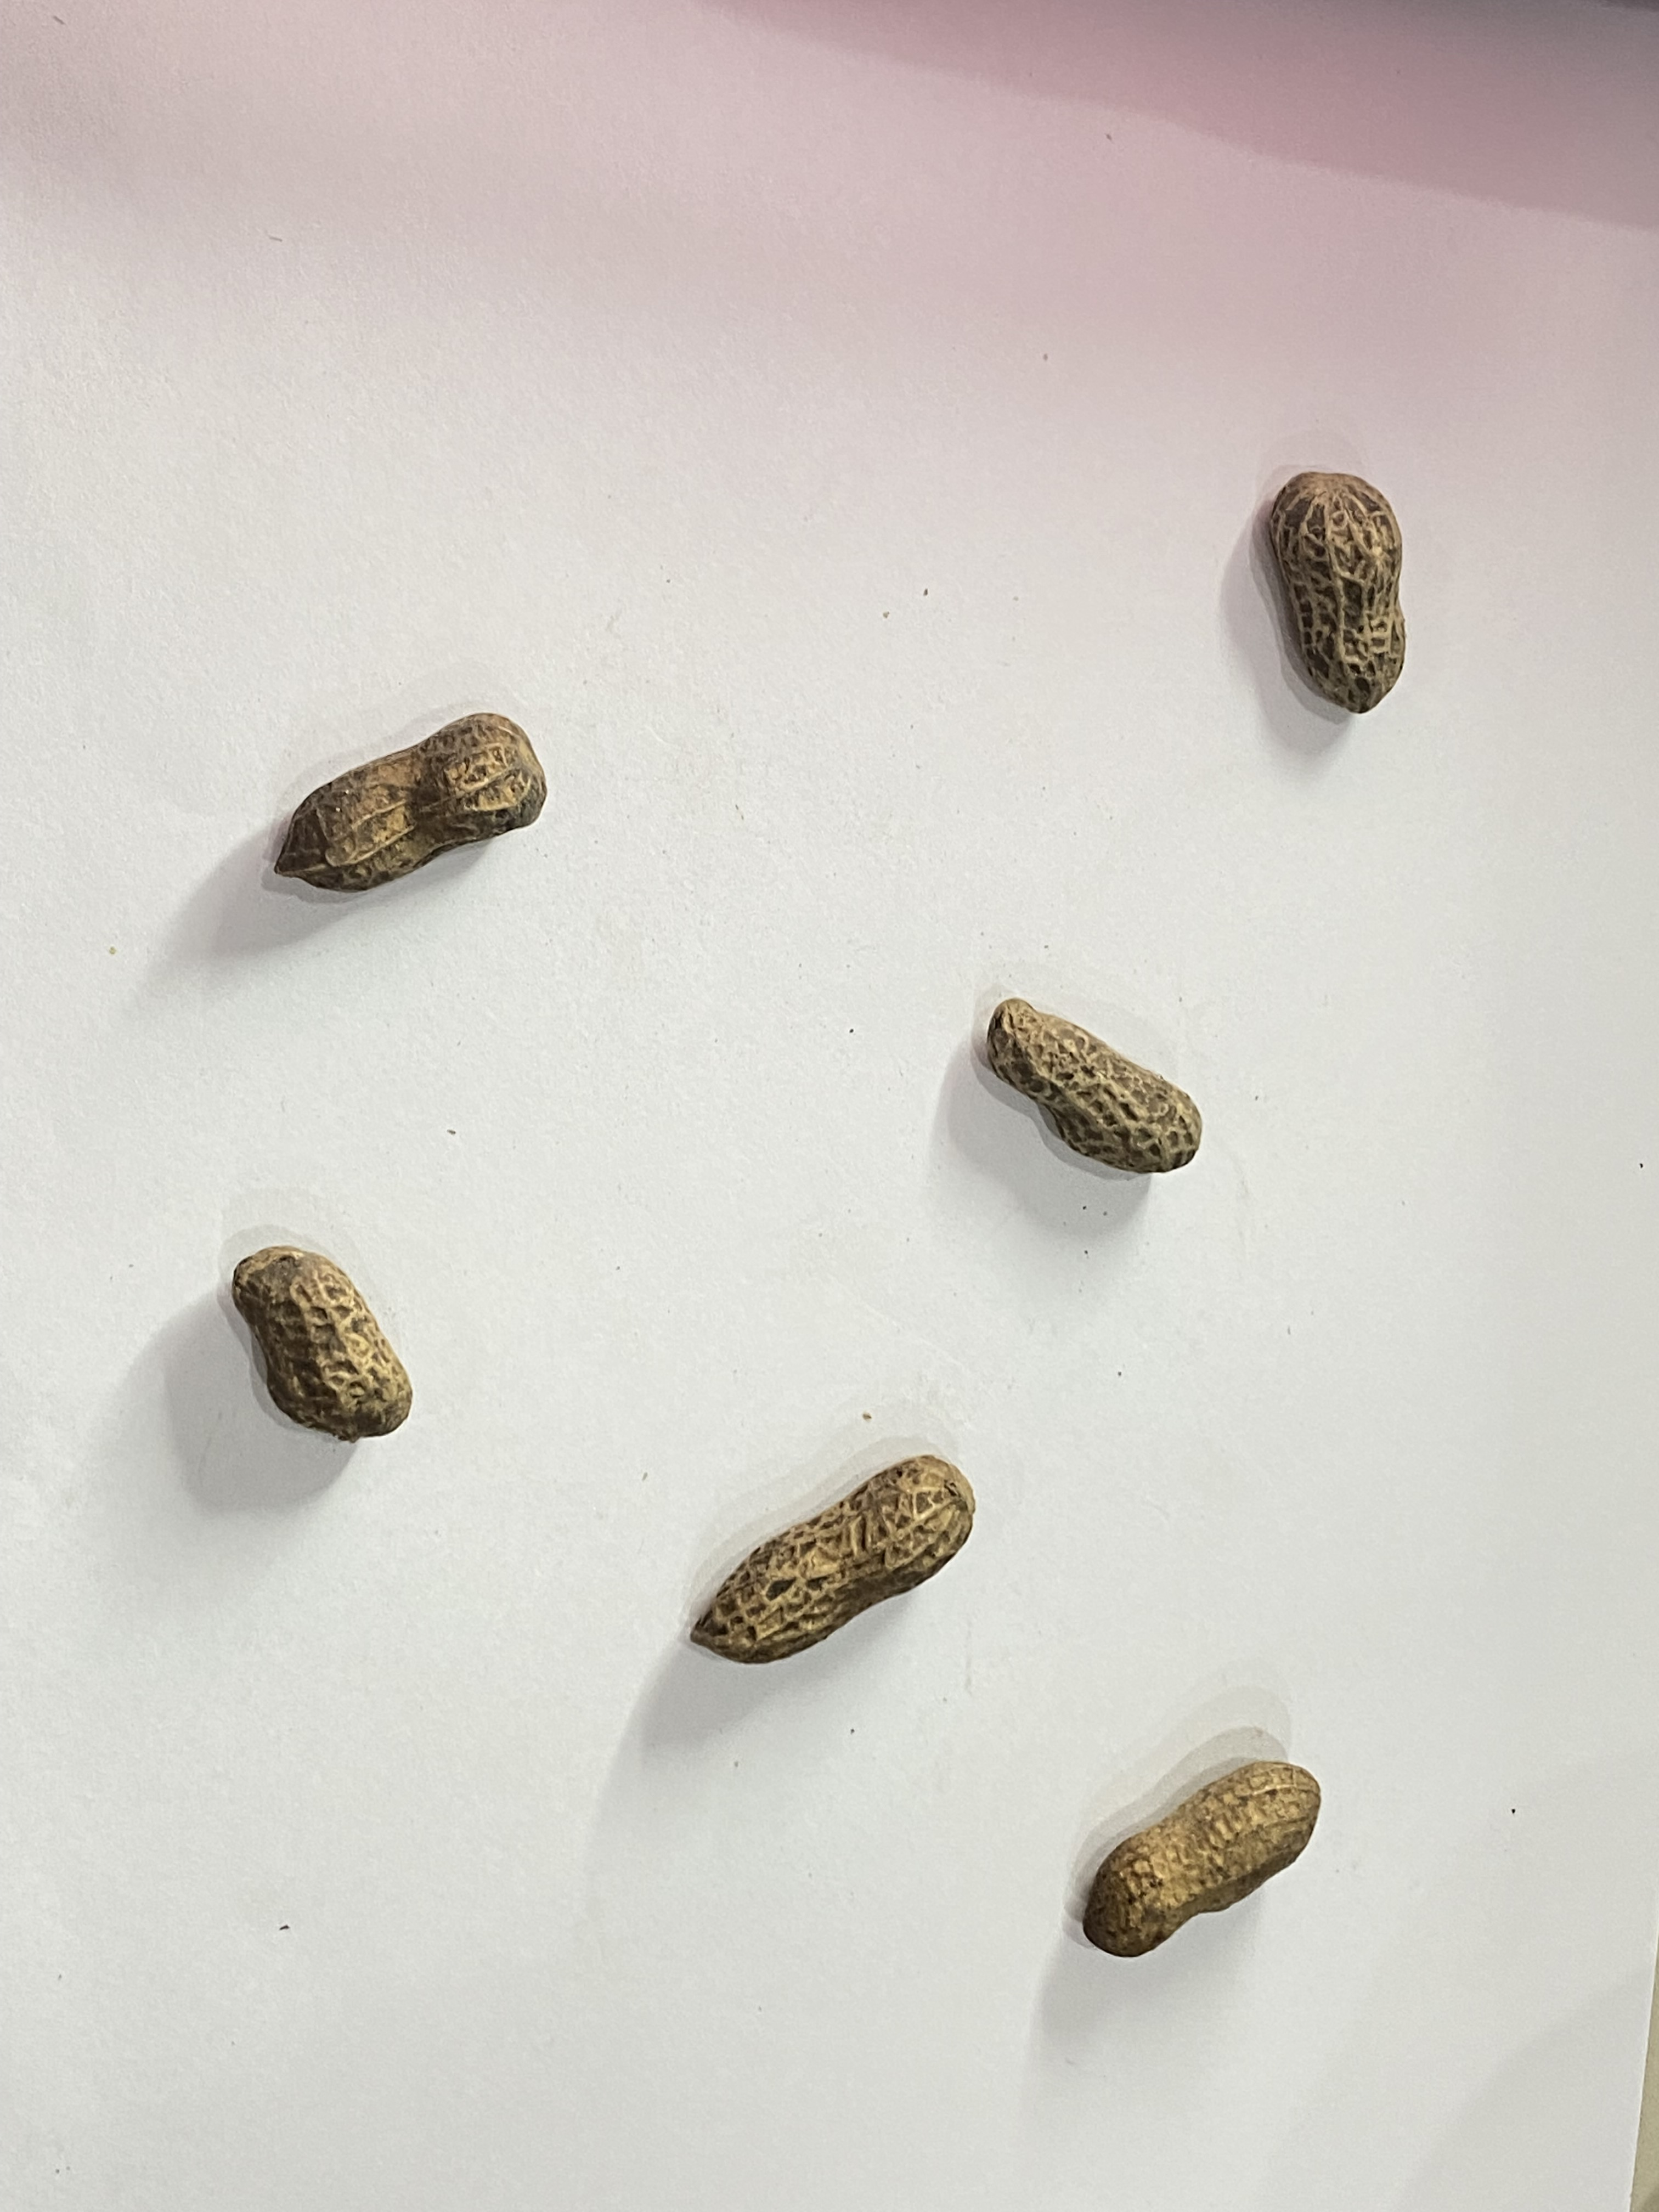kacang2: (260, 662, 572, 911), (681, 1439, 993, 1686), (1063, 1747, 1354, 1972), (1263, 444, 1469, 732), (950, 995, 1230, 1190), (211, 1226, 430, 1449)
